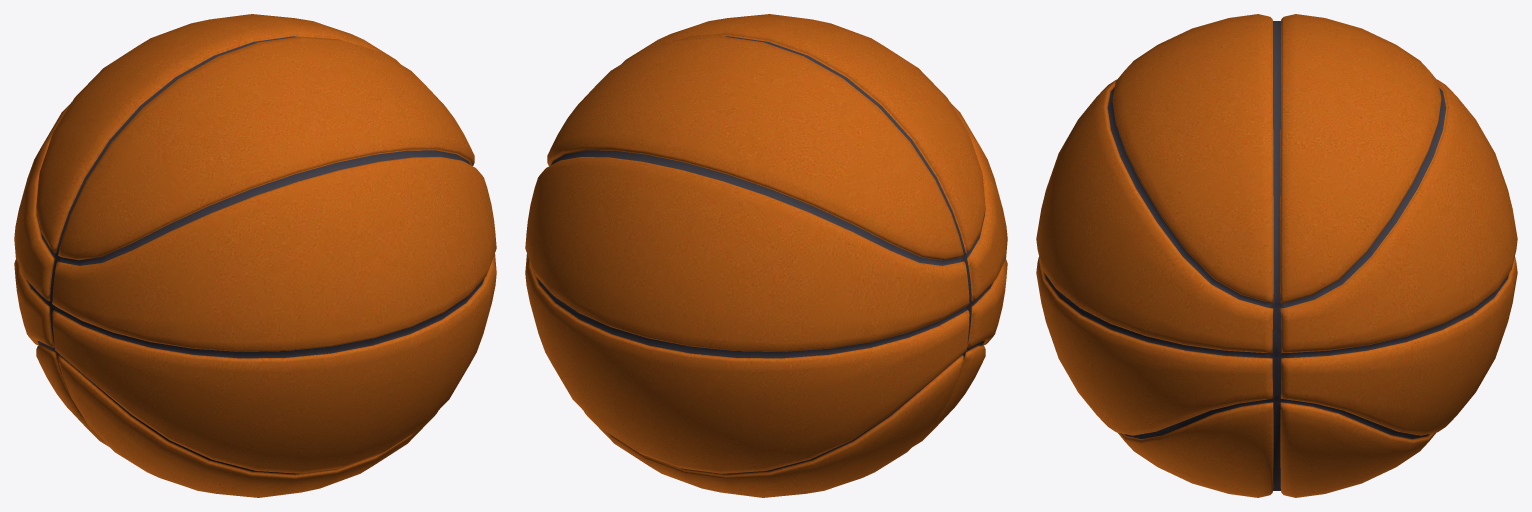
The model's file is ball-webp.glb.
3 renders of one model, left to right at view 1: azimuth 30°, elevation 25°; view 2: azimuth 150°, elevation 25°; view 3: azimuth 270°, elevation 25°, orthographic.
Visible parts, largest first — view 1: basketball_mesh; view 2: basketball_mesh; view 3: basketball_mesh.
Part boxes in pixels (x1,y1,x2,y2): basketball_mesh: [14, 14, 496, 497]; basketball_mesh: [525, 14, 1007, 497]; basketball_mesh: [1036, 14, 1517, 497].
Size of the model in its own units: 28.02 by 28.01 by 27.86.
1 material, 1 textured.
